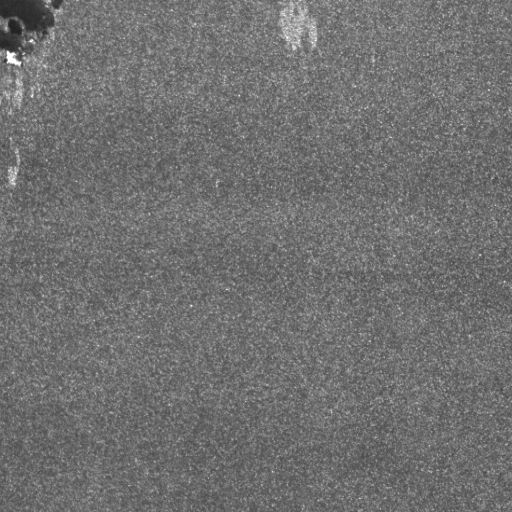qiaopi: (1, 1, 66, 66)
